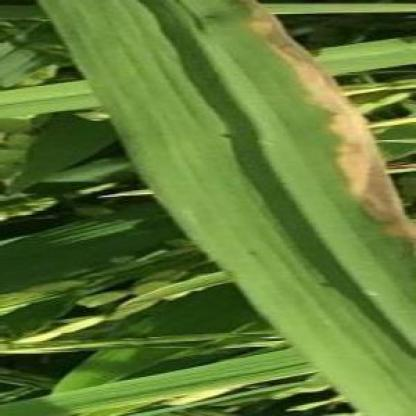Blight: (36, 1, 416, 416)
